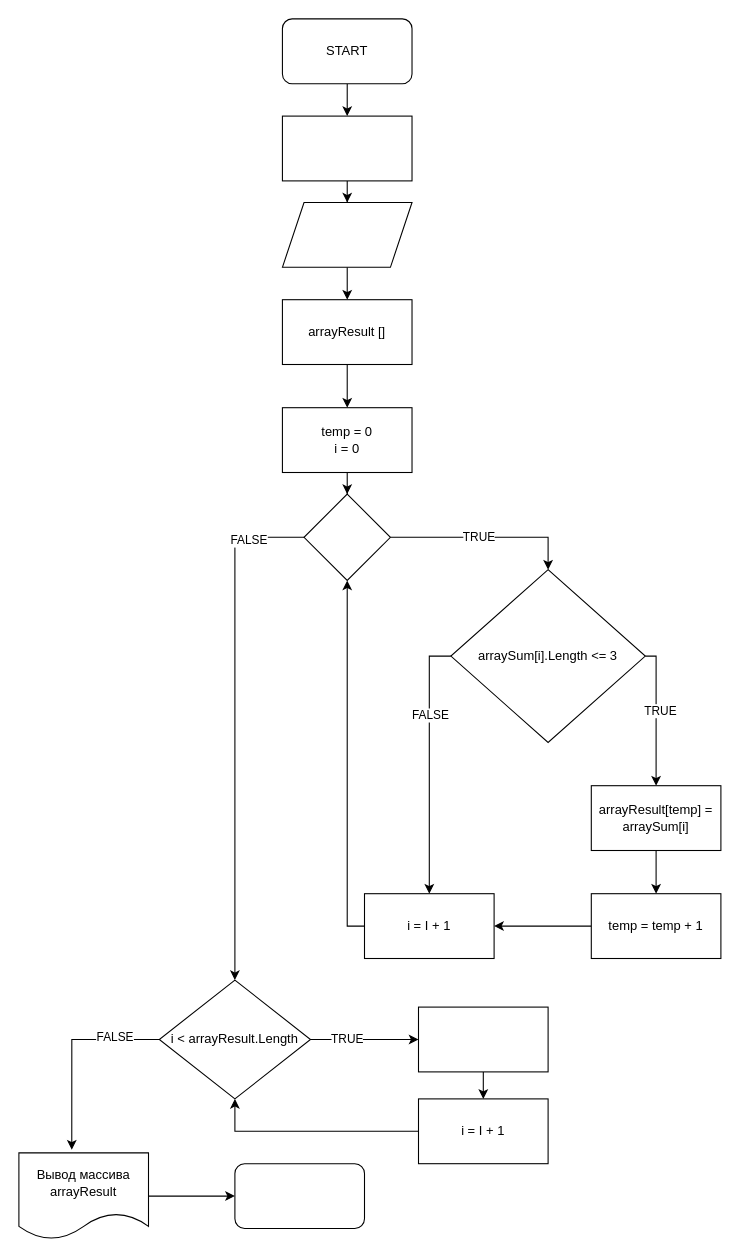
Some shapes in this 740 by 1258 pixel diagram are drawn without their labels. The shapes that lost their labels are listed below. From the top down, each one's centre as x and y in pixels, then its label:
(x=346, y=148): arraySum [5]
(x=346, y=234): Ввод arraySum
(x=346, y=536): i <= 4
(x=482, y=1039): Заполнение массива array[i] + " "
(x=299, y=1195): END
